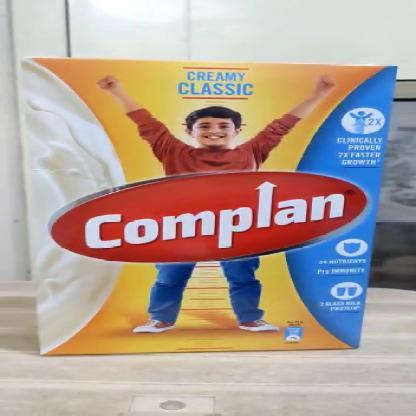Complan Classic Creme: (36, 66, 386, 355)
